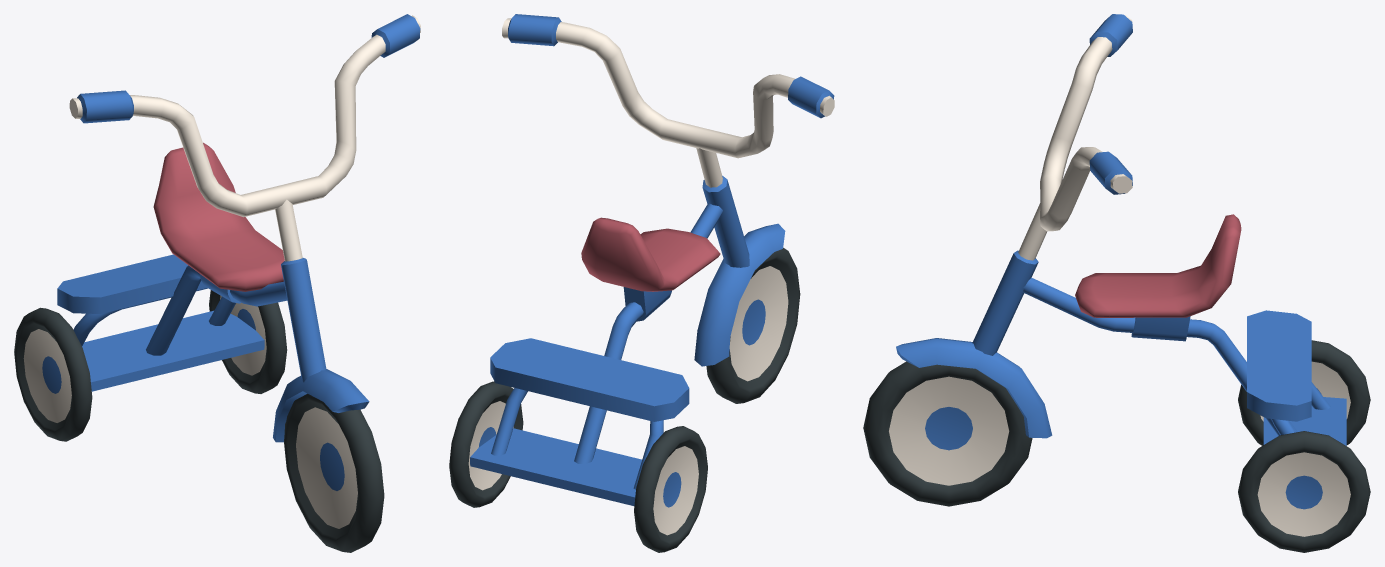
Rendered from Tricycle_01.fbx.
The picture shows the model from 3 angles, left to right: view 1: azimuth 30°, elevation 25°; view 2: azimuth 150°, elevation 25°; view 3: azimuth 270°, elevation 25°; orthographic projection. The views are drawn at different scales.
Parts seen in each view (by area): view 1: Tricycle_01; view 2: Tricycle_01; view 3: Tricycle_01.
Part boxes in pixels (x1,y1,x2,y2): Tricycle_01: (14,14,420,552); Tricycle_01: (449,14,834,552); Tricycle_01: (863,14,1370,552).
Size of the model in its own units: 0.6593 by 0.7851 by 0.8718.
